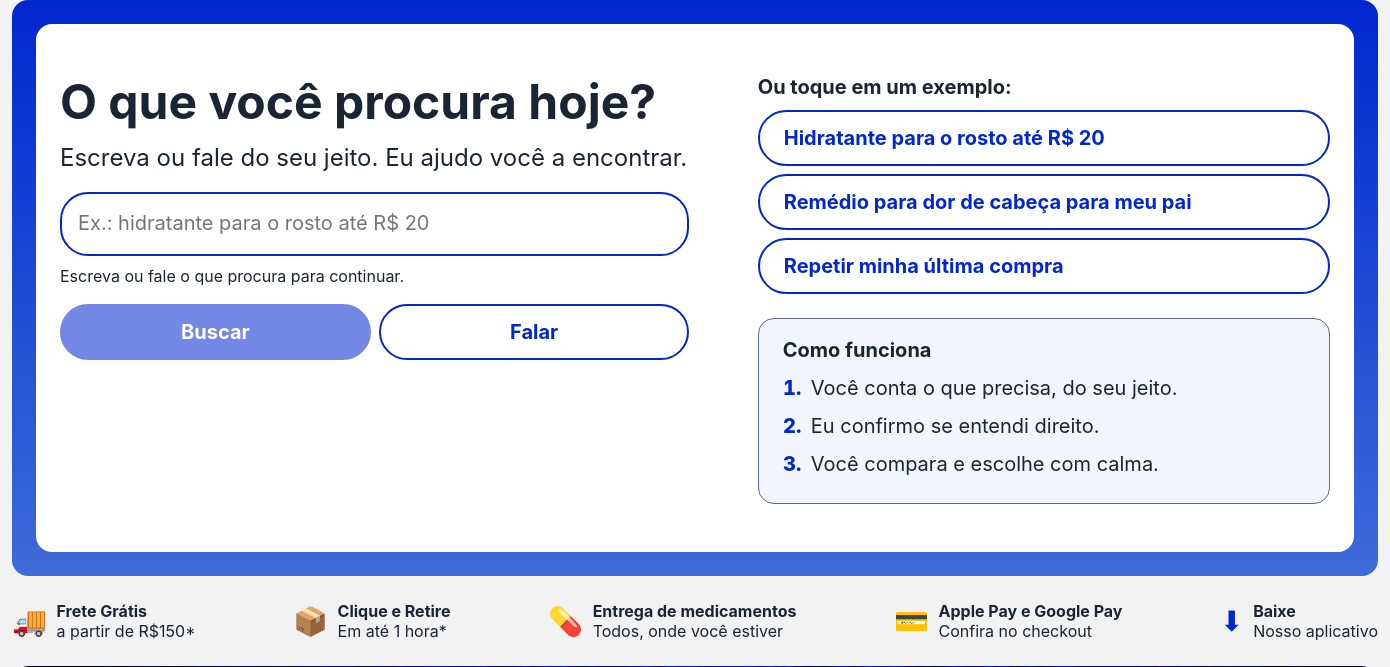
Scenario: Home › um exemplo preenche o campo e libera a busca
Step 1. Click the button "Hidratante para o rosto até R$ 20" → (1044, 138), box left=758, top=110, right=1330, bottom=166
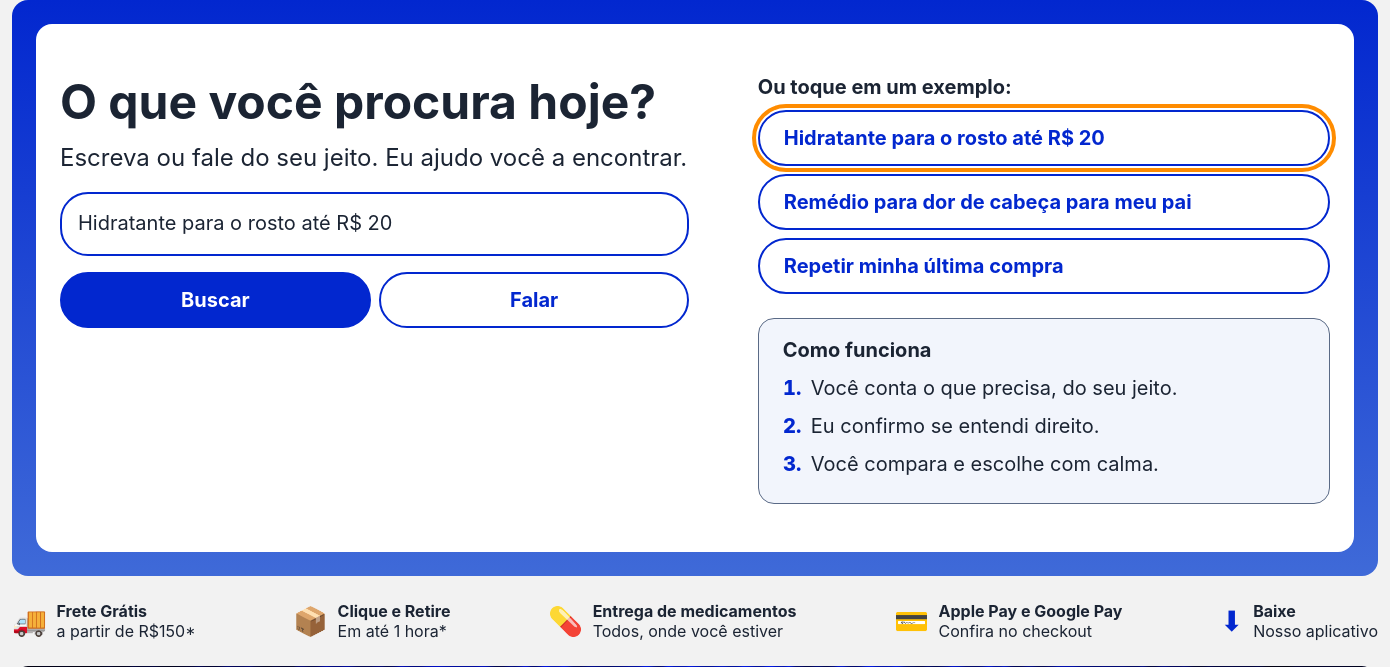
Now the text box holds "Hidratante para o rosto até R$ 20", box left=60, top=192, right=690, bottom=256
